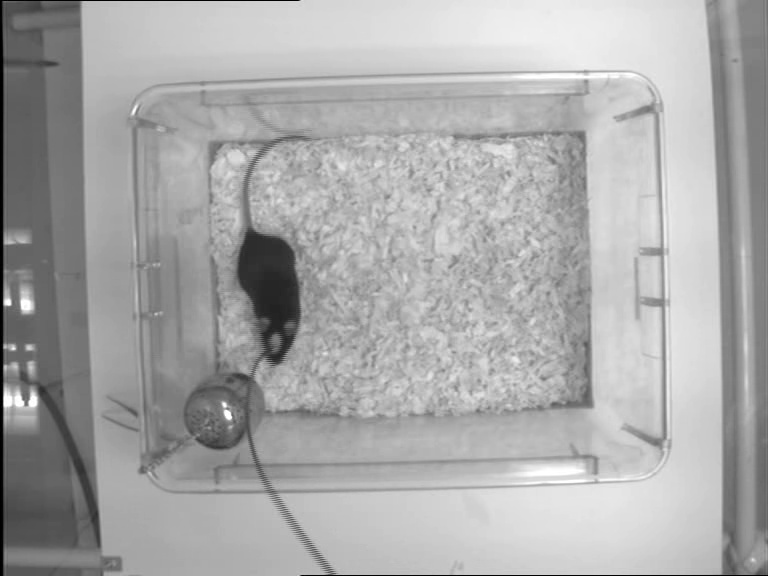mice: (234, 134, 310, 360)
